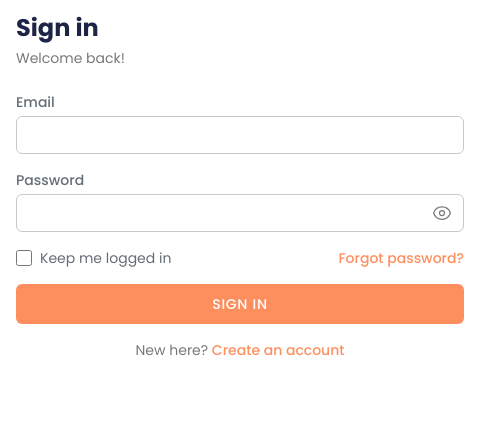
Test: LoginComponent › shows an error when login fails
Type "a@b.c" into the field named "email". click: point(240, 135)
box: [16,116,464,154]
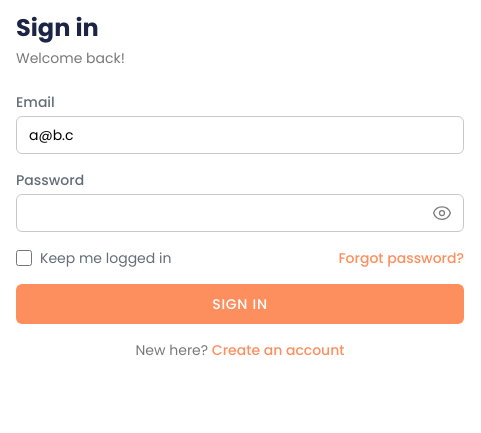
Type "wrong" into the password field named "password". click: point(240, 213)
box: [16,194,464,232]
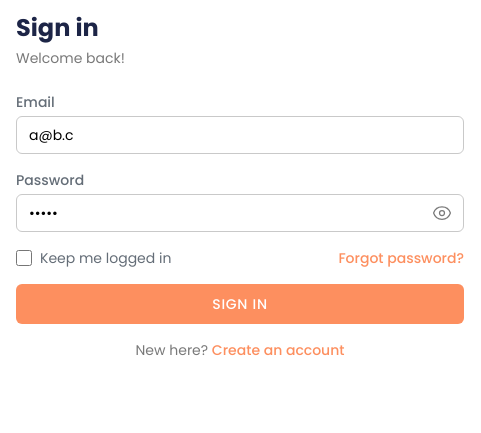
Submit the form, box [16,92,464,324]
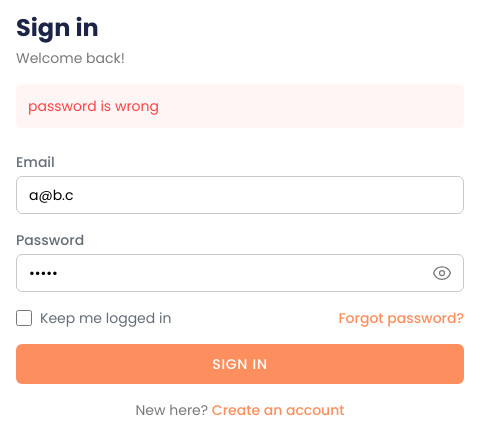
Check: the text "password is wrong" is shown, box [16,84,464,128]
